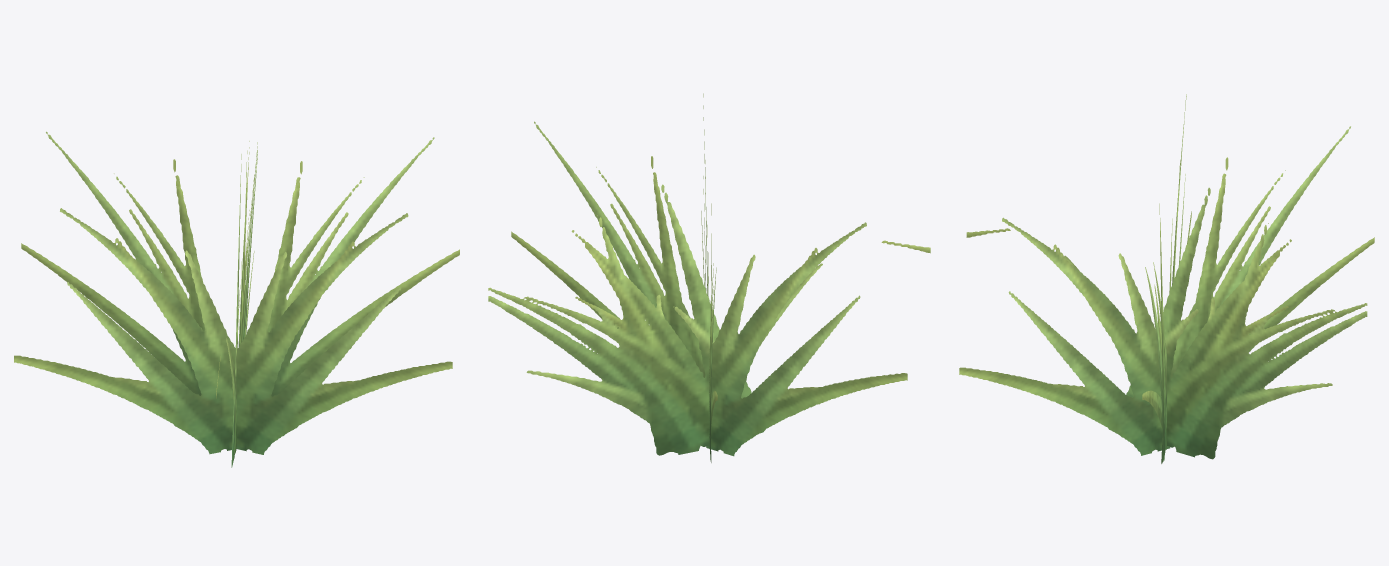
Rendered from grass_short.glb.
The picture shows the model from 3 angles, left to right: view 1: azimuth 30°, elevation 25°; view 2: azimuth 150°, elevation 25°; view 3: azimuth 270°, elevation 25°; orthographic projection.
Visible parts, largest first — view 1: grass_short; view 2: grass_short; view 3: grass_short.
Part boxes in pixels (x1=…): grass_short: x1=14, y1=131, x2=459, y2=467; grass_short: x1=488, y1=93, x2=930, y2=462; grass_short: x1=959, y1=94, x2=1374, y2=463.
Size of the model in its own units: 0.199 by 0.15 by 0.1698.
Materials: 1 (1 with a texture image).
